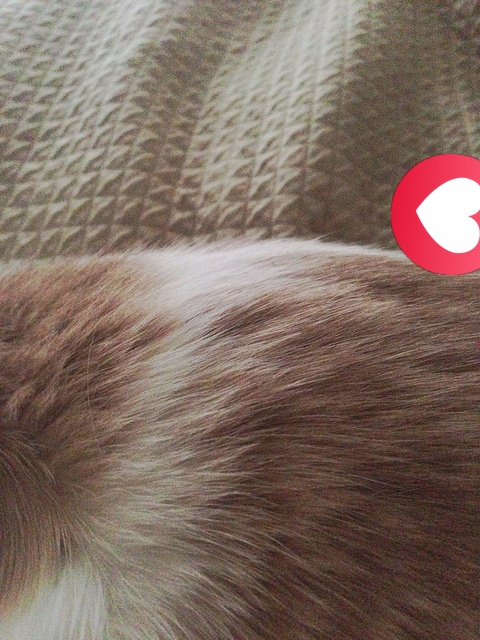love: (391, 154, 480, 275)
